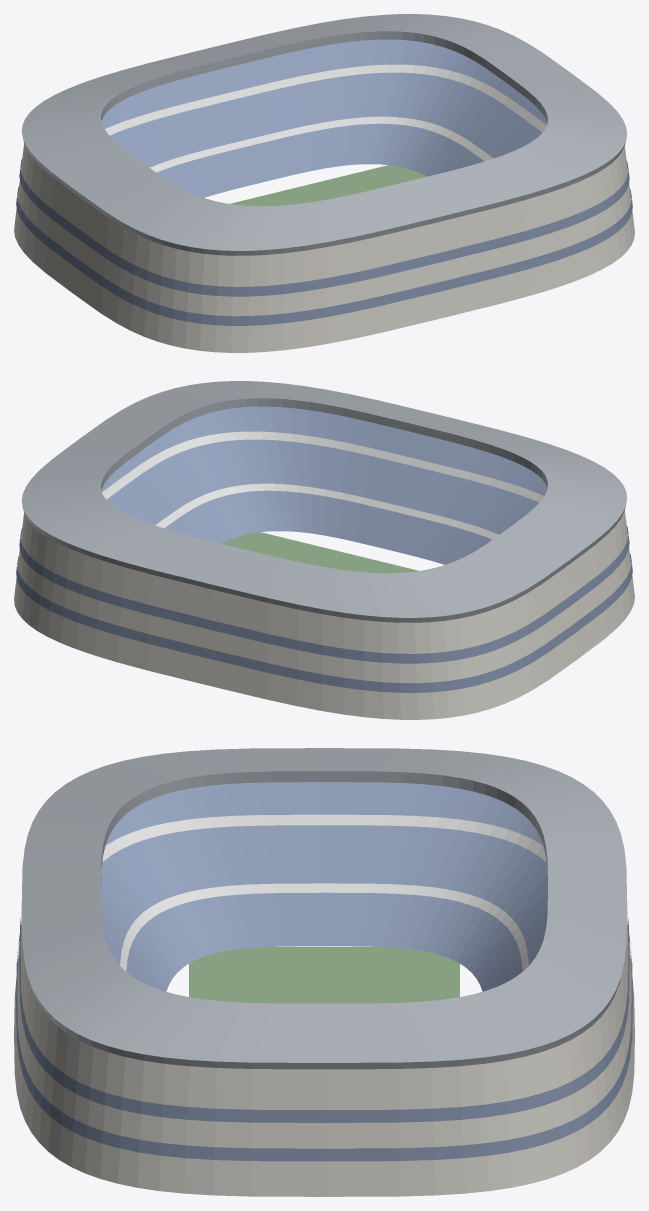
File: anoeta.glb
The picture shows the model from 3 angles, top to bottom: view 1: azimuth 30°, elevation 25°; view 2: azimuth 150°, elevation 25°; view 3: azimuth 270°, elevation 25°; orthographic projection. The views are drawn at different scales.
Size of the model in its own units: 192 by 41 by 156.
